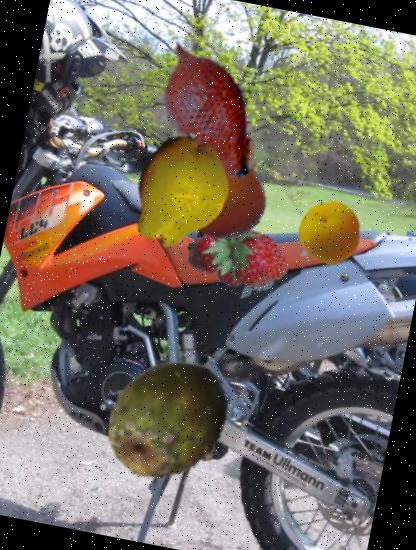Cactus: (93, 342, 250, 499)
Peach: (291, 194, 366, 270)
Quince: (112, 123, 249, 259)
Salak: (121, 22, 297, 198)
Strawberry: (179, 192, 300, 312)
Tangelo: (164, 142, 274, 252)
